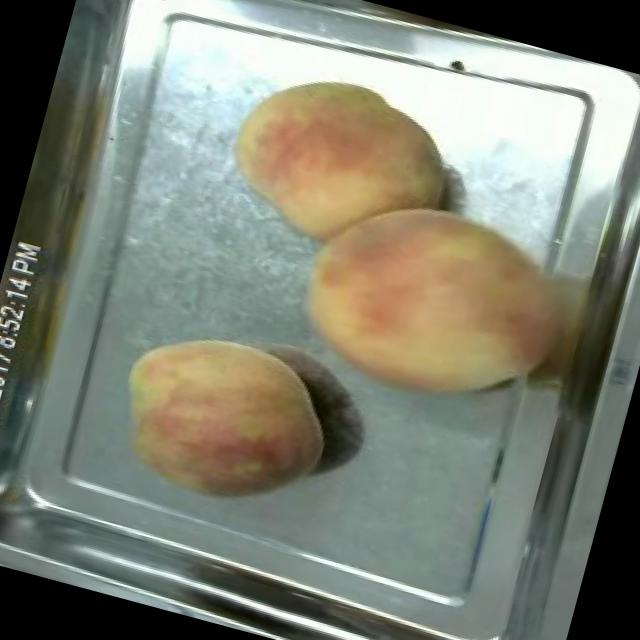Fruit: (274, 164, 582, 436), (204, 45, 470, 274), (96, 308, 352, 532)
